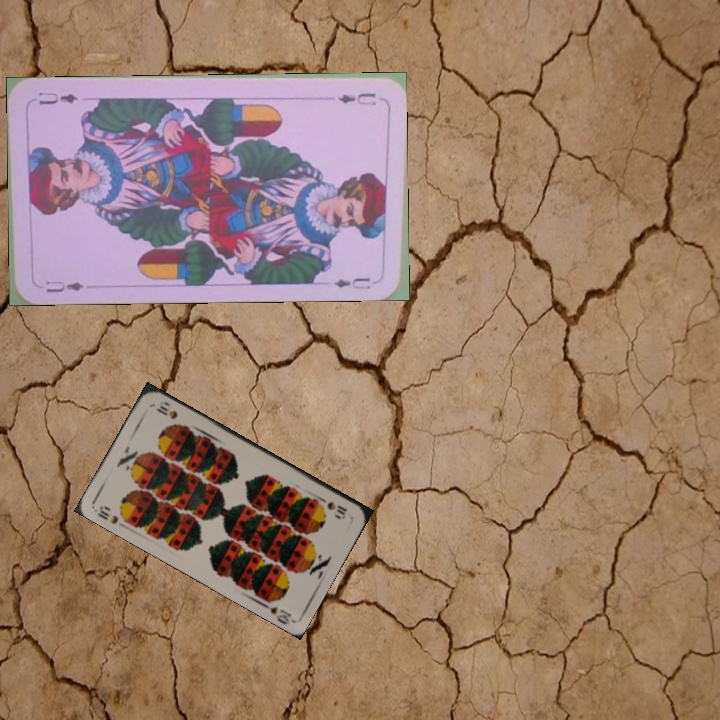EU: (42, 276, 87, 296), (333, 88, 378, 107)
S10: (315, 493, 350, 520), (93, 502, 121, 527)
